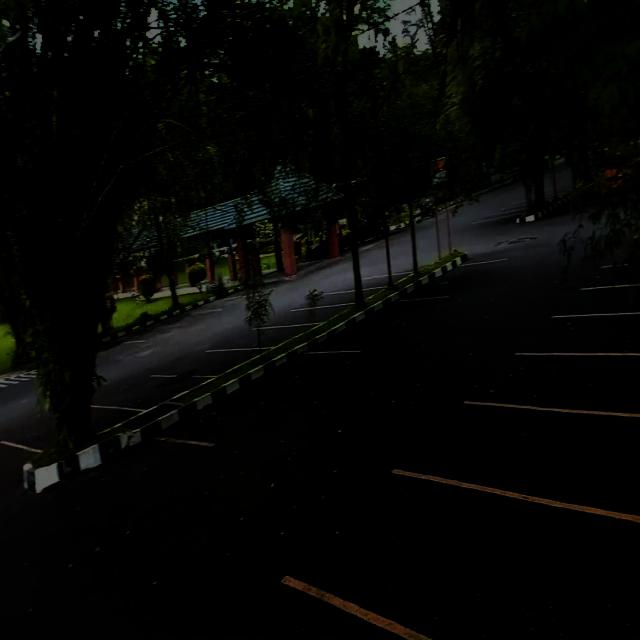empty: (285, 468, 640, 640), (398, 397, 640, 521), (155, 349, 362, 445), (466, 350, 640, 419), (300, 293, 449, 358), (517, 309, 640, 362), (92, 368, 206, 411), (164, 339, 272, 377), (213, 320, 312, 351), (556, 287, 640, 319), (302, 279, 385, 307), (269, 301, 348, 324)
